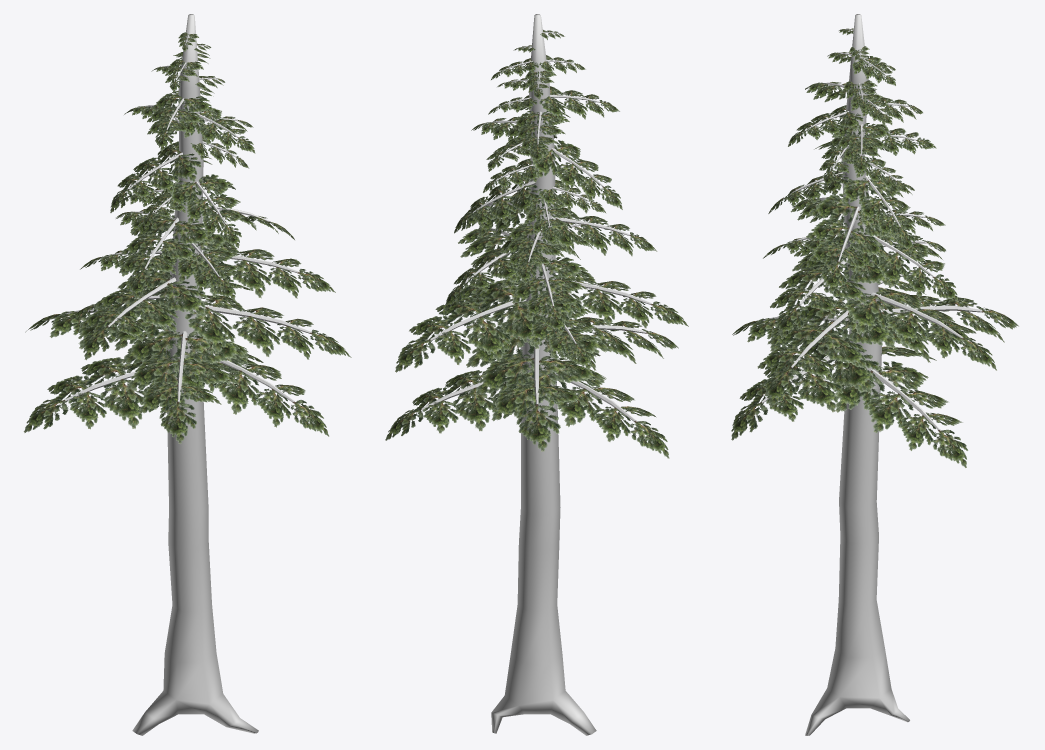
File: WierdTree1.fbx
3 views of the same model, side by side, from view 1: azimuth 30°, elevation 25°; view 2: azimuth 150°, elevation 25°; view 3: azimuth 270°, elevation 25° (orthographic).
Visible parts, largest first — view 1: Cube.004; view 2: Cube.004; view 3: Cube.004.
Part boxes in pixels (x1=…): Cube.004: x1=23, y1=14, x2=351, y2=735; Cube.004: x1=385, y1=14, x2=688, y2=735; Cube.004: x1=731, y1=14, x2=1018, y2=735.
Size of the model in its own units: 1439 by 1416 by 3532.
